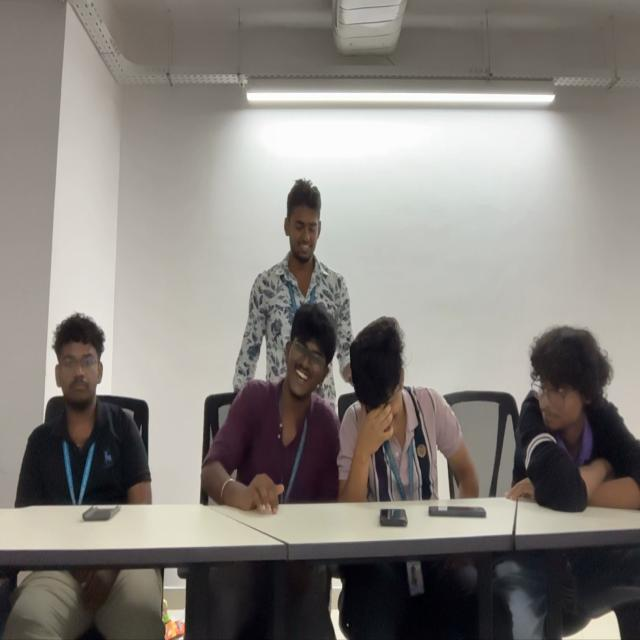Isolated: (16, 309, 154, 503), (512, 325, 640, 505)
socializing: (205, 181, 480, 498)
